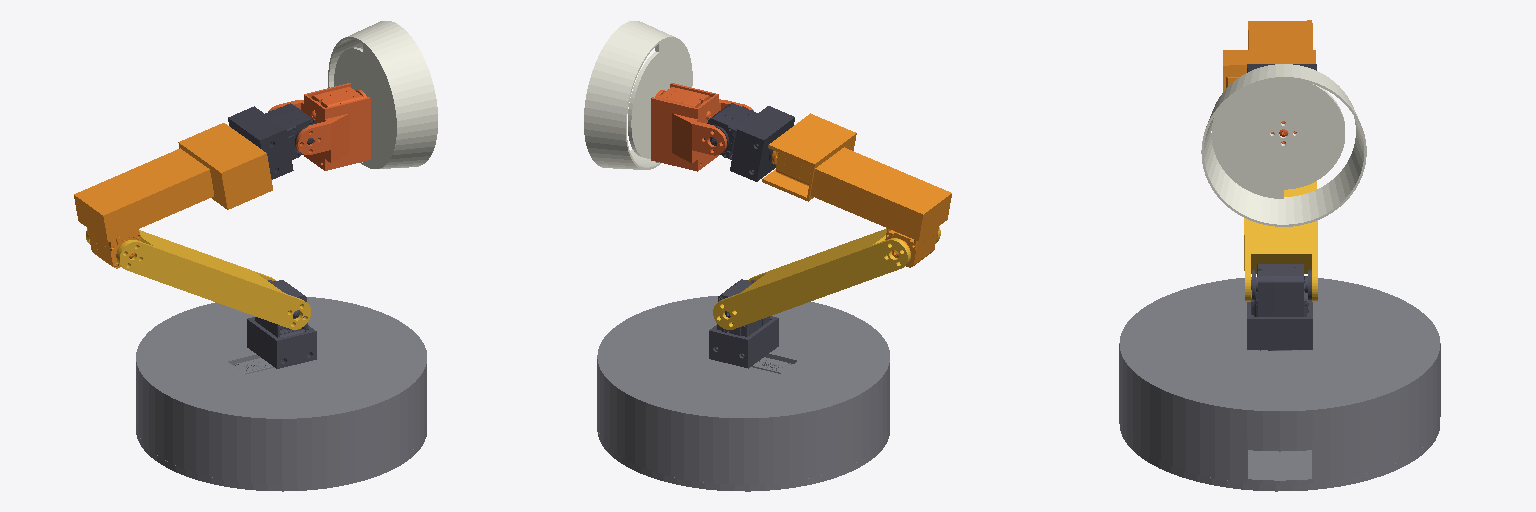
URDF robot description (lamp):
<?xml version="1.0"?>
<!-- Generated by gen_urdf.py from build/zero_pose.json. Zero pose = SolidWorks CAD pose (J1=90, J2=60, J3=40, J4=90, J5=100 mate angles). -->
<!-- Visual = merged CAD meshes per link; collision = convex hull of each link mesh. -->
<robot name="lamp">
  <link name="base">
    <inertial><origin xyz="-0.001874030 0.000000242 0.025207253" rpy="0 0 0"/><mass value="0.592285"/>
      <inertia ixx="0.00183023" ixy="0.00000000" ixz="0.00002150" iyy="0.00180234" iyz="-0.00000001" izz="0.00318586"/></inertial>
    <visual><origin xyz="0 0 0" rpy="0 0 0"/><geometry><mesh filename="meshes/links/base.stl"/></geometry><material name="base"><color rgba="0.55 0.55 0.58 1"/></material></visual>
    <collision><origin xyz="0 0 0" rpy="0 0 0"/><geometry><mesh filename="meshes/links/base_hull.stl"/></geometry></collision>
  </link>
  <link name="turntable">
    <inertial><origin xyz="-0.000036701 0.001129153 0.024487040" rpy="0 0 0"/><mass value="0.069587"/>
      <inertia ixx="0.00002100" ixy="0.00000002" ixz="0.00000001" iyy="0.00001777" iyz="-0.00000033" izz="0.00001207"/></inertial>
    <visual><origin xyz="0 0 0" rpy="0 0 0"/><geometry><mesh filename="meshes/links/turntable.stl"/></geometry><material name="turntable"><color rgba="0.35 0.35 0.4 1"/></material></visual>
    <collision><origin xyz="0 0 0" rpy="0 0 0"/><geometry><mesh filename="meshes/links/turntable_hull.stl"/></geometry></collision>
  </link>
  <link name="lower_arm">
    <inertial><origin xyz="-0.065616232 0.000352648 0.037880330" rpy="0 0 0"/><mass value="0.073846"/>
      <inertia ixx="0.00004243" ixy="-0.00000043" ixz="0.00004439" iyy="0.00010820" iyz="0.00000031" izz="0.00009368"/></inertial>
    <visual><origin xyz="0 0 0" rpy="0 0 0"/><geometry><mesh filename="meshes/links/lower_arm.stl"/></geometry><material name="lower_arm"><color rgba="0.95 0.75 0.25 1"/></material></visual>
    <collision><origin xyz="0 0 0" rpy="0 0 0"/><geometry><mesh filename="meshes/links/lower_arm_hull.stl"/></geometry></collision>
  </link>
  <link name="upper_arm">
    <inertial><origin xyz="0.041343702 -0.004053389 0.030044653" rpy="0 0 0"/><mass value="0.173758"/>
      <inertia ixx="0.00007661" ixy="0.00001820" ixz="-0.00008267" iyy="0.00031854" iyz="0.00000591" izz="0.00030282"/></inertial>
    <visual><origin xyz="0 0 0" rpy="0 0 0"/><geometry><mesh filename="meshes/links/upper_arm.stl"/></geometry><material name="upper_arm"><color rgba="0.95 0.6 0.2 1"/></material></visual>
    <collision><origin xyz="0 0 0" rpy="0 0 0"/><geometry><mesh filename="meshes/links/upper_arm_hull.stl"/></geometry></collision>
  </link>
  <link name="roll">
    <inertial><origin xyz="0.024093589 -0.000545446 0.004059878" rpy="0 0 0"/><mass value="0.072650"/>
      <inertia ixx="0.00001389" ixy="0.00000023" ixz="-0.00000145" iyy="0.00001884" iyz="0.00000003" izz="0.00002213"/></inertial>
    <visual><origin xyz="0 0 0" rpy="0 0 0"/><geometry><mesh filename="meshes/links/roll.stl"/></geometry><material name="roll"><color rgba="0.3 0.3 0.35 1"/></material></visual>
    <collision><origin xyz="0 0 0" rpy="0 0 0"/><geometry><mesh filename="meshes/links/roll_hull.stl"/></geometry></collision>
  </link>
  <link name="yoke">
    <inertial><origin xyz="0.032744323 0.002082389 -0.005217292" rpy="0 0 0"/><mass value="0.078388"/>
      <inertia ixx="0.00002101" ixy="0.00000000" ixz="-0.00000124" iyy="0.00002411" iyz="-0.00000002" izz="0.00001895"/></inertial>
    <visual><origin xyz="0 0 0" rpy="0 0 0"/><geometry><mesh filename="meshes/links/yoke.stl"/></geometry><material name="yoke"><color rgba="0.9 0.45 0.25 1"/></material></visual>
    <collision><origin xyz="0 0 0" rpy="0 0 0"/><geometry><mesh filename="meshes/links/yoke_hull.stl"/></geometry></collision>
  </link>
  <link name="head">
    <inertial><origin xyz="0.009500523 -0.002167582 -0.000000000" rpy="0 0 0"/><mass value="0.038286"/>
      <inertia ixx="0.00005961" ixy="0.00000078" ixz="0.00000000" iyy="0.00003305" iyz="-0.00000000" izz="0.00003284"/></inertial>
    <visual><origin xyz="0 0 0" rpy="0 0 0"/><geometry><mesh filename="meshes/links/head.stl"/></geometry><material name="head"><color rgba="0.95 0.95 0.9 1"/></material></visual>
    <collision><origin xyz="0 0 0" rpy="0 0 0"/><geometry><mesh filename="meshes/links/head_hull.stl"/></geometry></collision>
  </link>
  <joint name="J1" type="revolute"><parent link="base"/><child link="turntable"/><origin xyz="-0.000005000 -0.000000000 0.050450000" rpy="0 0 0"/><axis xyz="-0.000000000 -0.000000000 -1.000000000"/><limit lower="-2.617994" upper="2.617994" effort="2.94" velocity="4.5"/></joint>
  <joint name="J2" type="revolute"><parent link="turntable"/><child link="lower_arm"/><origin xyz="-0.000037169 0.000000000 0.040110000" rpy="0 0 0"/><axis xyz="0.008726535 -0.999961923 0.000000000"/><limit lower="-1.047198" upper="0.733038" effort="2.94" velocity="4.5"/></joint>
  <joint name="J3" type="revolute"><parent link="lower_arm"/><child link="upper_arm"/><origin xyz="-0.131207845 0.000000000 0.075750000" rpy="0 0 0"/><axis xyz="0.008726535 -0.999961923 0.000000000"/><limit lower="-0.523599" upper="2.443461" effort="2.94" velocity="4.5"/></joint>
  <joint name="J4" type="revolute"><parent link="upper_arm"/><child link="roll"/><origin xyz="0.102328652 0.001432046 0.045652538" rpy="0 0 0"/><axis xyz="-0.984770255 -0.008593960 -0.173648178"/><limit lower="-2.967060" upper="2.967060" effort="2.94" velocity="4.5"/></joint>
  <joint name="J5" type="revolute"><parent link="roll"/><child link="yoke"/><origin xyz="0.039951124 -0.001432046 0.006793210" rpy="0 0 0"/><axis xyz="-0.008726535 0.999961923 0.000000000"/><limit lower="-1.221730" upper="1.221730" effort="2.94" velocity="4.5"/></joint>
  <joint name="J6" type="revolute"><parent link="yoke"/><child link="head"/><origin xyz="0.052656092 0.002281922 0.007411704" rpy="0 0 0"/><axis xyz="-0.999961923 -0.008726535 0.000000000"/><limit lower="-2.967060" upper="2.967060" effort="2.94" velocity="4.5"/></joint>
</robot>

--- Facts derived from the render (not from the file) ---
3 views of the same robot in one strip: view 1: azimuth 30°, elevation 25°; view 2: azimuth 150°, elevation 25°; view 3: azimuth 270°, elevation 25° (orthographic).
Model lamp with 7 links and 6 joints (6 revolute), rooted at base, posed all joints at 0.
Links seen in each view (by area): view 1: base, upper_arm, head, lower_arm, yoke, roll, turntable; view 2: base, upper_arm, head, lower_arm, yoke, roll, turntable; view 3: base, head, turntable, lower_arm, upper_arm.
Boxes of the visible links, bbox=[...] form: base: bbox=[136, 297, 426, 491]; upper_arm: bbox=[74, 123, 272, 268]; head: bbox=[328, 21, 437, 168]; lower_arm: bbox=[86, 229, 310, 329]; yoke: bbox=[268, 83, 370, 170]; roll: bbox=[228, 103, 318, 179]; turntable: bbox=[247, 280, 316, 368]; base: bbox=[597, 296, 889, 491]; upper_arm: bbox=[762, 113, 951, 267]; head: bbox=[584, 21, 692, 169]; lower_arm: bbox=[713, 227, 940, 329]; yoke: bbox=[651, 83, 753, 171]; roll: bbox=[704, 103, 794, 181]; turntable: bbox=[709, 279, 778, 368]; base: bbox=[1119, 277, 1440, 491]; head: bbox=[1201, 64, 1366, 226]; turntable: bbox=[1247, 264, 1312, 349]; lower_arm: bbox=[1244, 181, 1317, 301]; upper_arm: bbox=[1223, 20, 1315, 91].
Size in the robot's own frame: 0.2531 by 0.2 by 0.2827 metres.
7 mesh visuals loaded from 7 distinct referenced files (7 binary STL).
